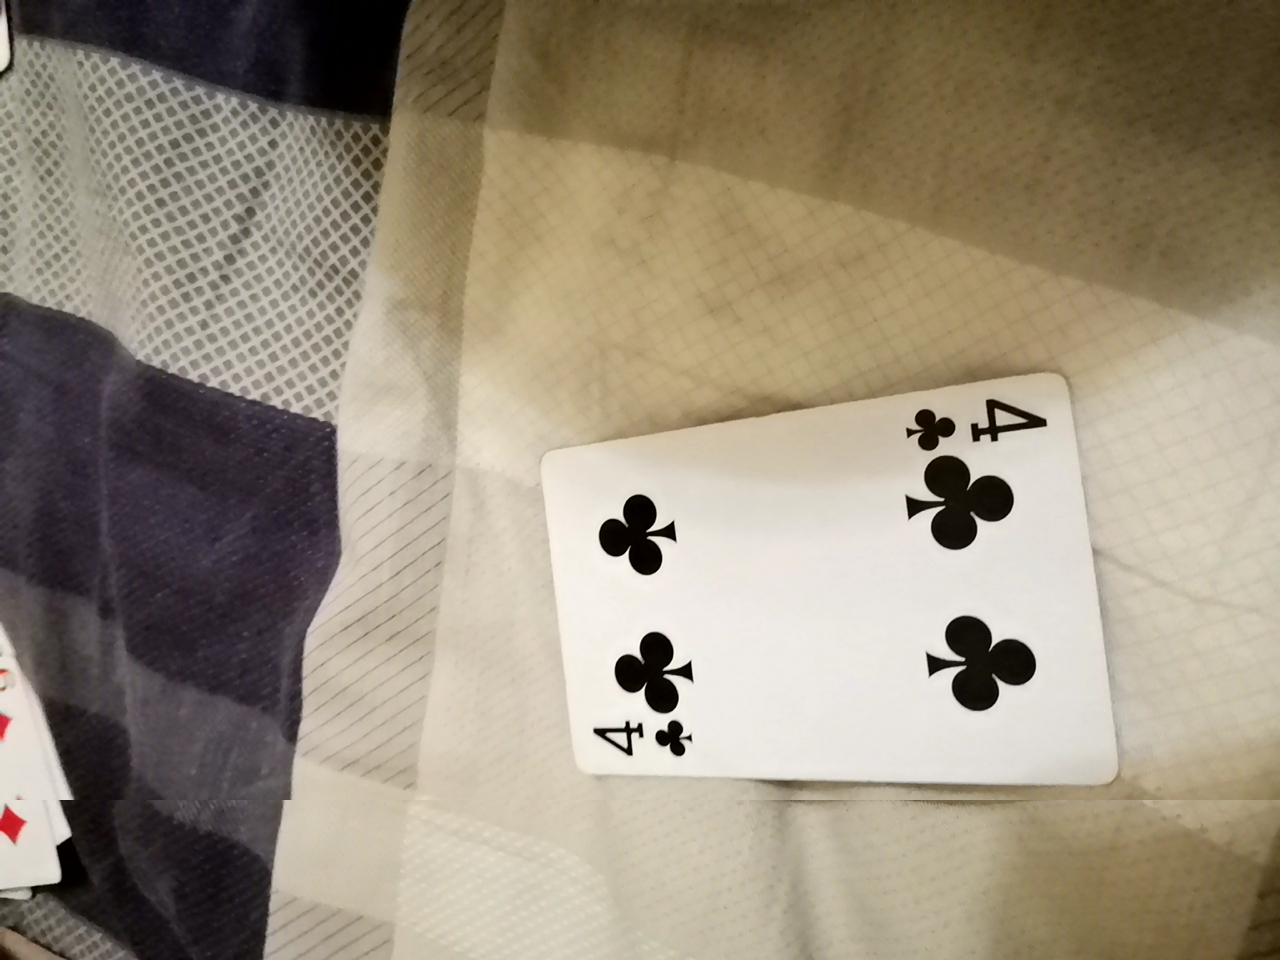mh 4: (528, 381, 1114, 797)
